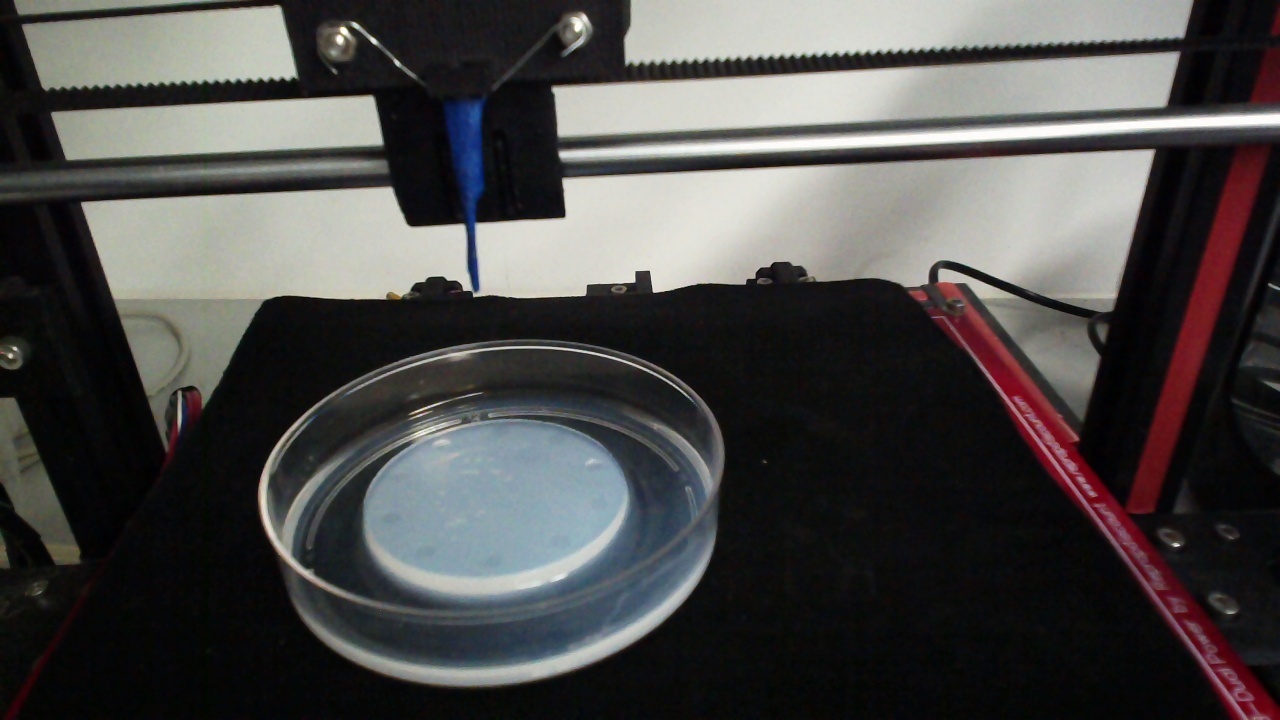groove: (378, 509, 403, 529), (581, 455, 606, 475), (585, 493, 612, 511), (546, 534, 571, 553), (478, 553, 504, 570), (489, 422, 513, 440), (411, 543, 437, 559), (389, 466, 412, 484), (546, 430, 569, 448), (430, 438, 453, 452)
needle: (446, 100, 483, 292)
